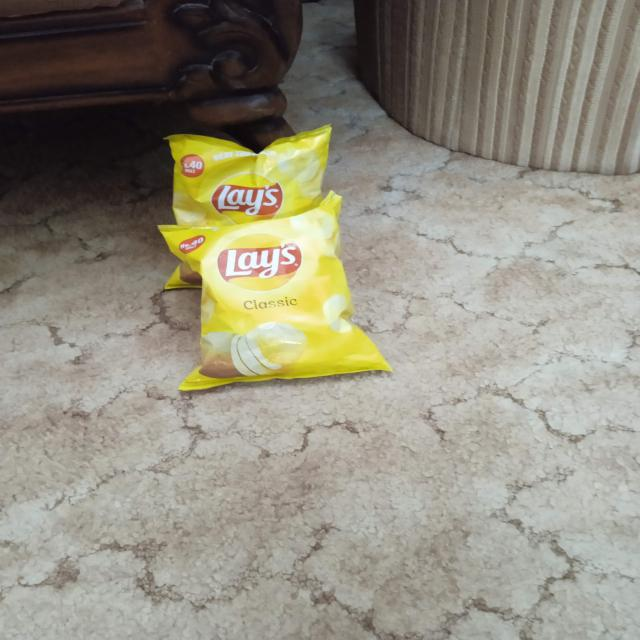Plastic: (166, 224, 384, 380), (166, 132, 332, 216)
